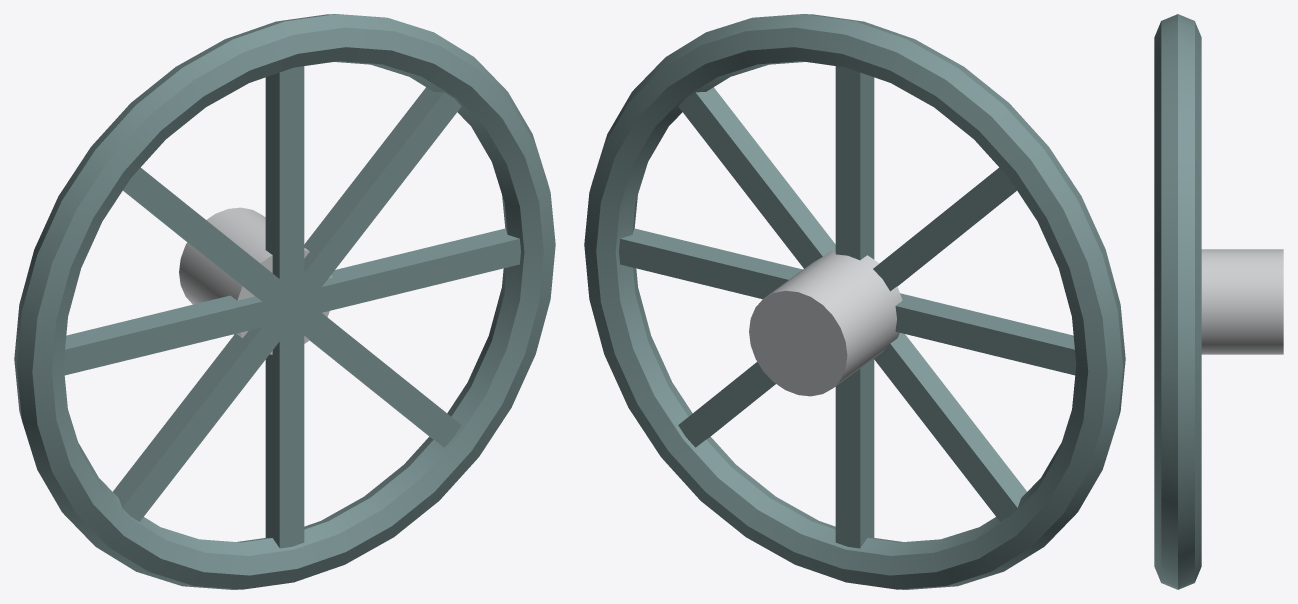
File: pipe_valve.glb
The picture shows the model from 3 angles, left to right: view 1: azimuth 30°, elevation 25°; view 2: azimuth 150°, elevation 25°; view 3: azimuth 270°, elevation 25°; orthographic projection. The views are drawn at different scales.
Visible parts, largest first — view 1: pipe_valve; view 2: pipe_valve; view 3: pipe_valve.
Part boxes in pixels (left/top/right/bottom): pipe_valve: left=14, top=14, right=555, bottom=589; pipe_valve: left=584, top=14, right=1125, bottom=589; pipe_valve: left=1154, top=14, right=1283, bottom=589.
Size of what is drawn, in the model's own units: 0.436 by 0.436 by 0.098.
